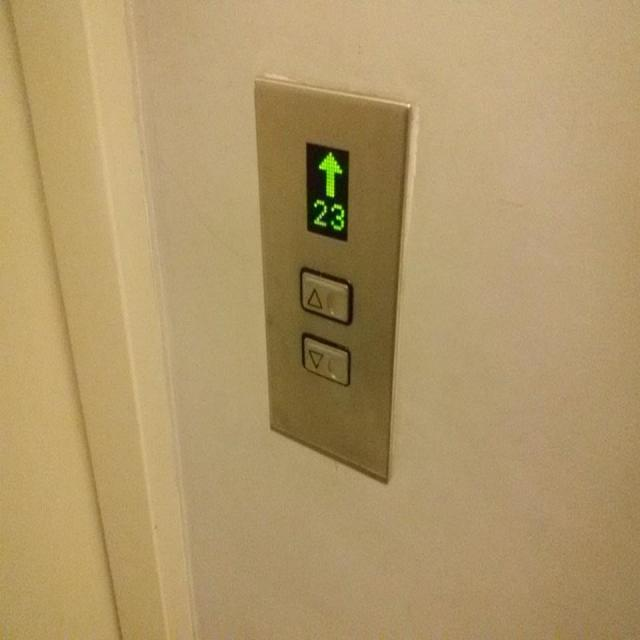down: (298, 330, 351, 389)
led: (303, 138, 350, 244)
up: (296, 262, 354, 326)
